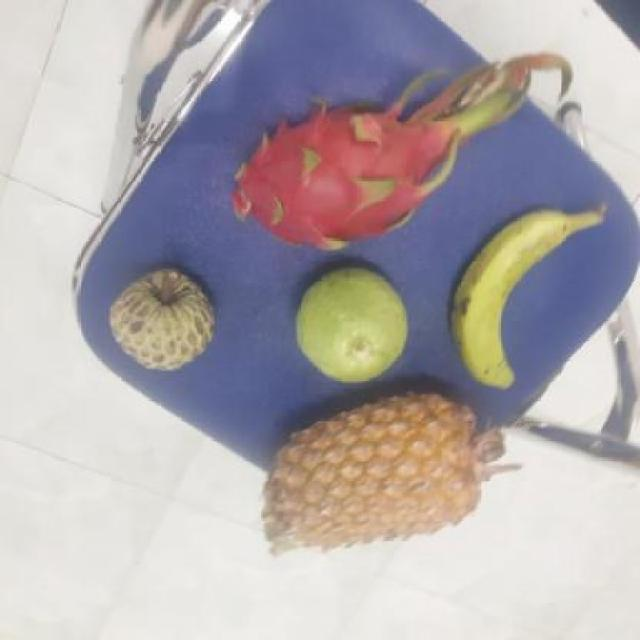banana: (445, 205, 573, 386)
dragon fruit: (218, 100, 455, 248)
guava: (291, 267, 408, 382)
pineapple: (265, 385, 483, 551)
sugar apple: (102, 265, 213, 371)
